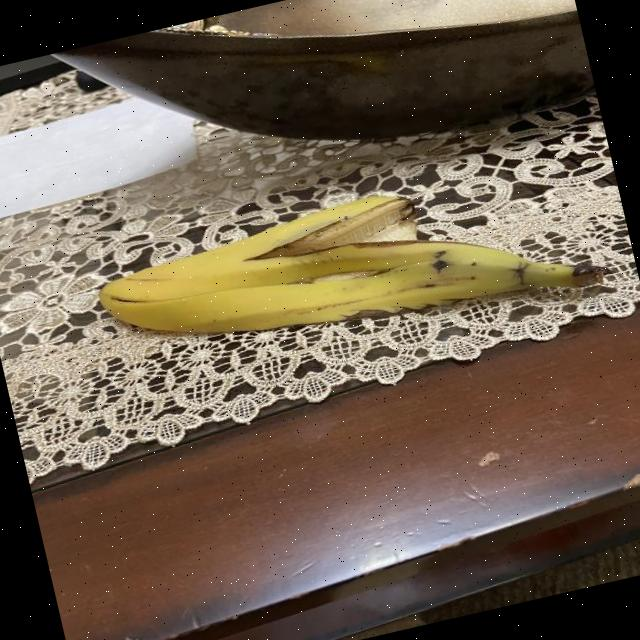banana-peel: (88, 146, 606, 395)
